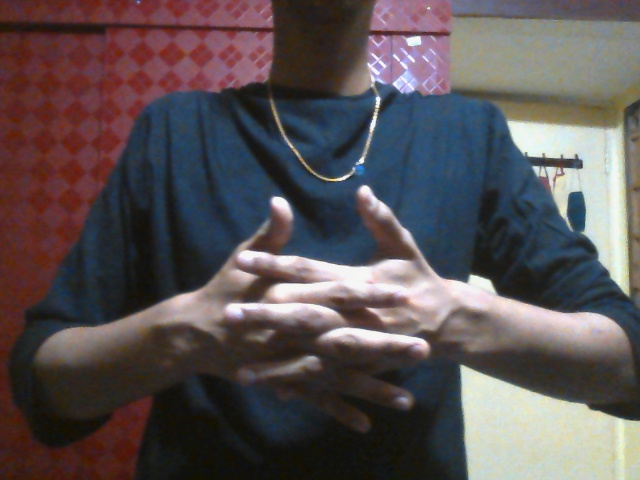W: (198, 184, 464, 435)
